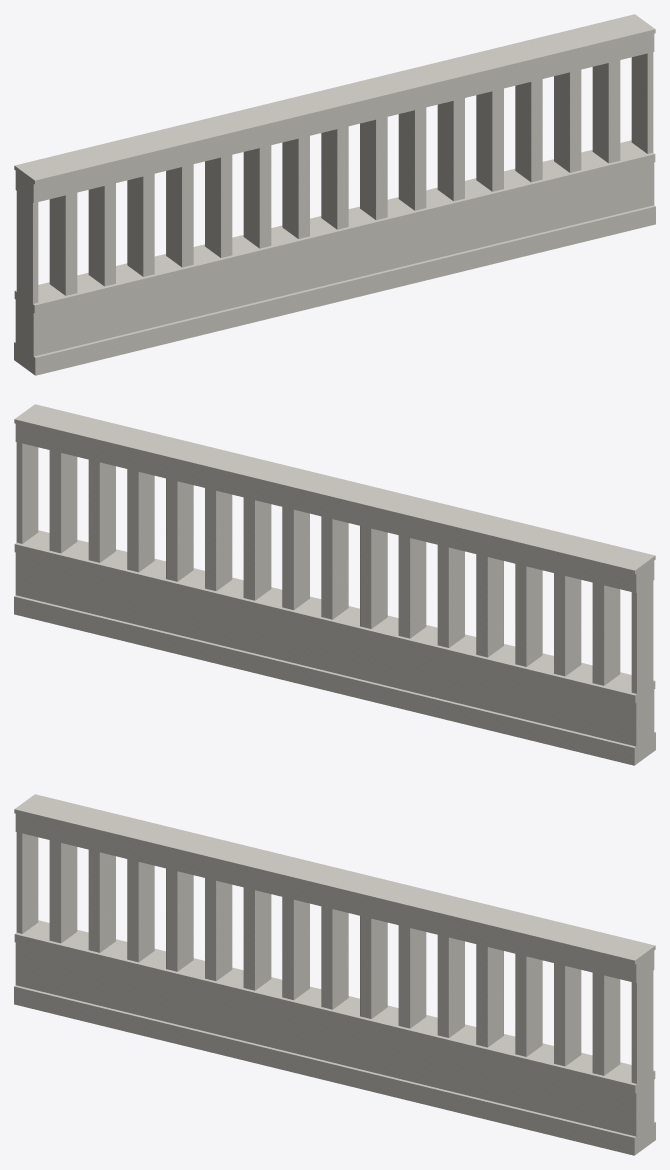
File: OAR_Wall_Panel_Open_4m.fbx
The picture shows the model from 3 angles, top to bottom: view 1: azimuth 30°, elevation 25°; view 2: azimuth 150°, elevation 25°; view 3: azimuth 330°, elevation 25°; orthographic projection.
Parts seen in each view (by area): view 1: Body; view 2: Body; view 3: Body.
Part boxes in pixels (left/top/right/bottom): Body: left=14, top=14, right=655, bottom=375; Body: left=14, top=404, right=655, bottom=765; Body: left=14, top=794, right=655, bottom=1155.
Size of the model in its own units: 4 by 1.2 by 0.24.
